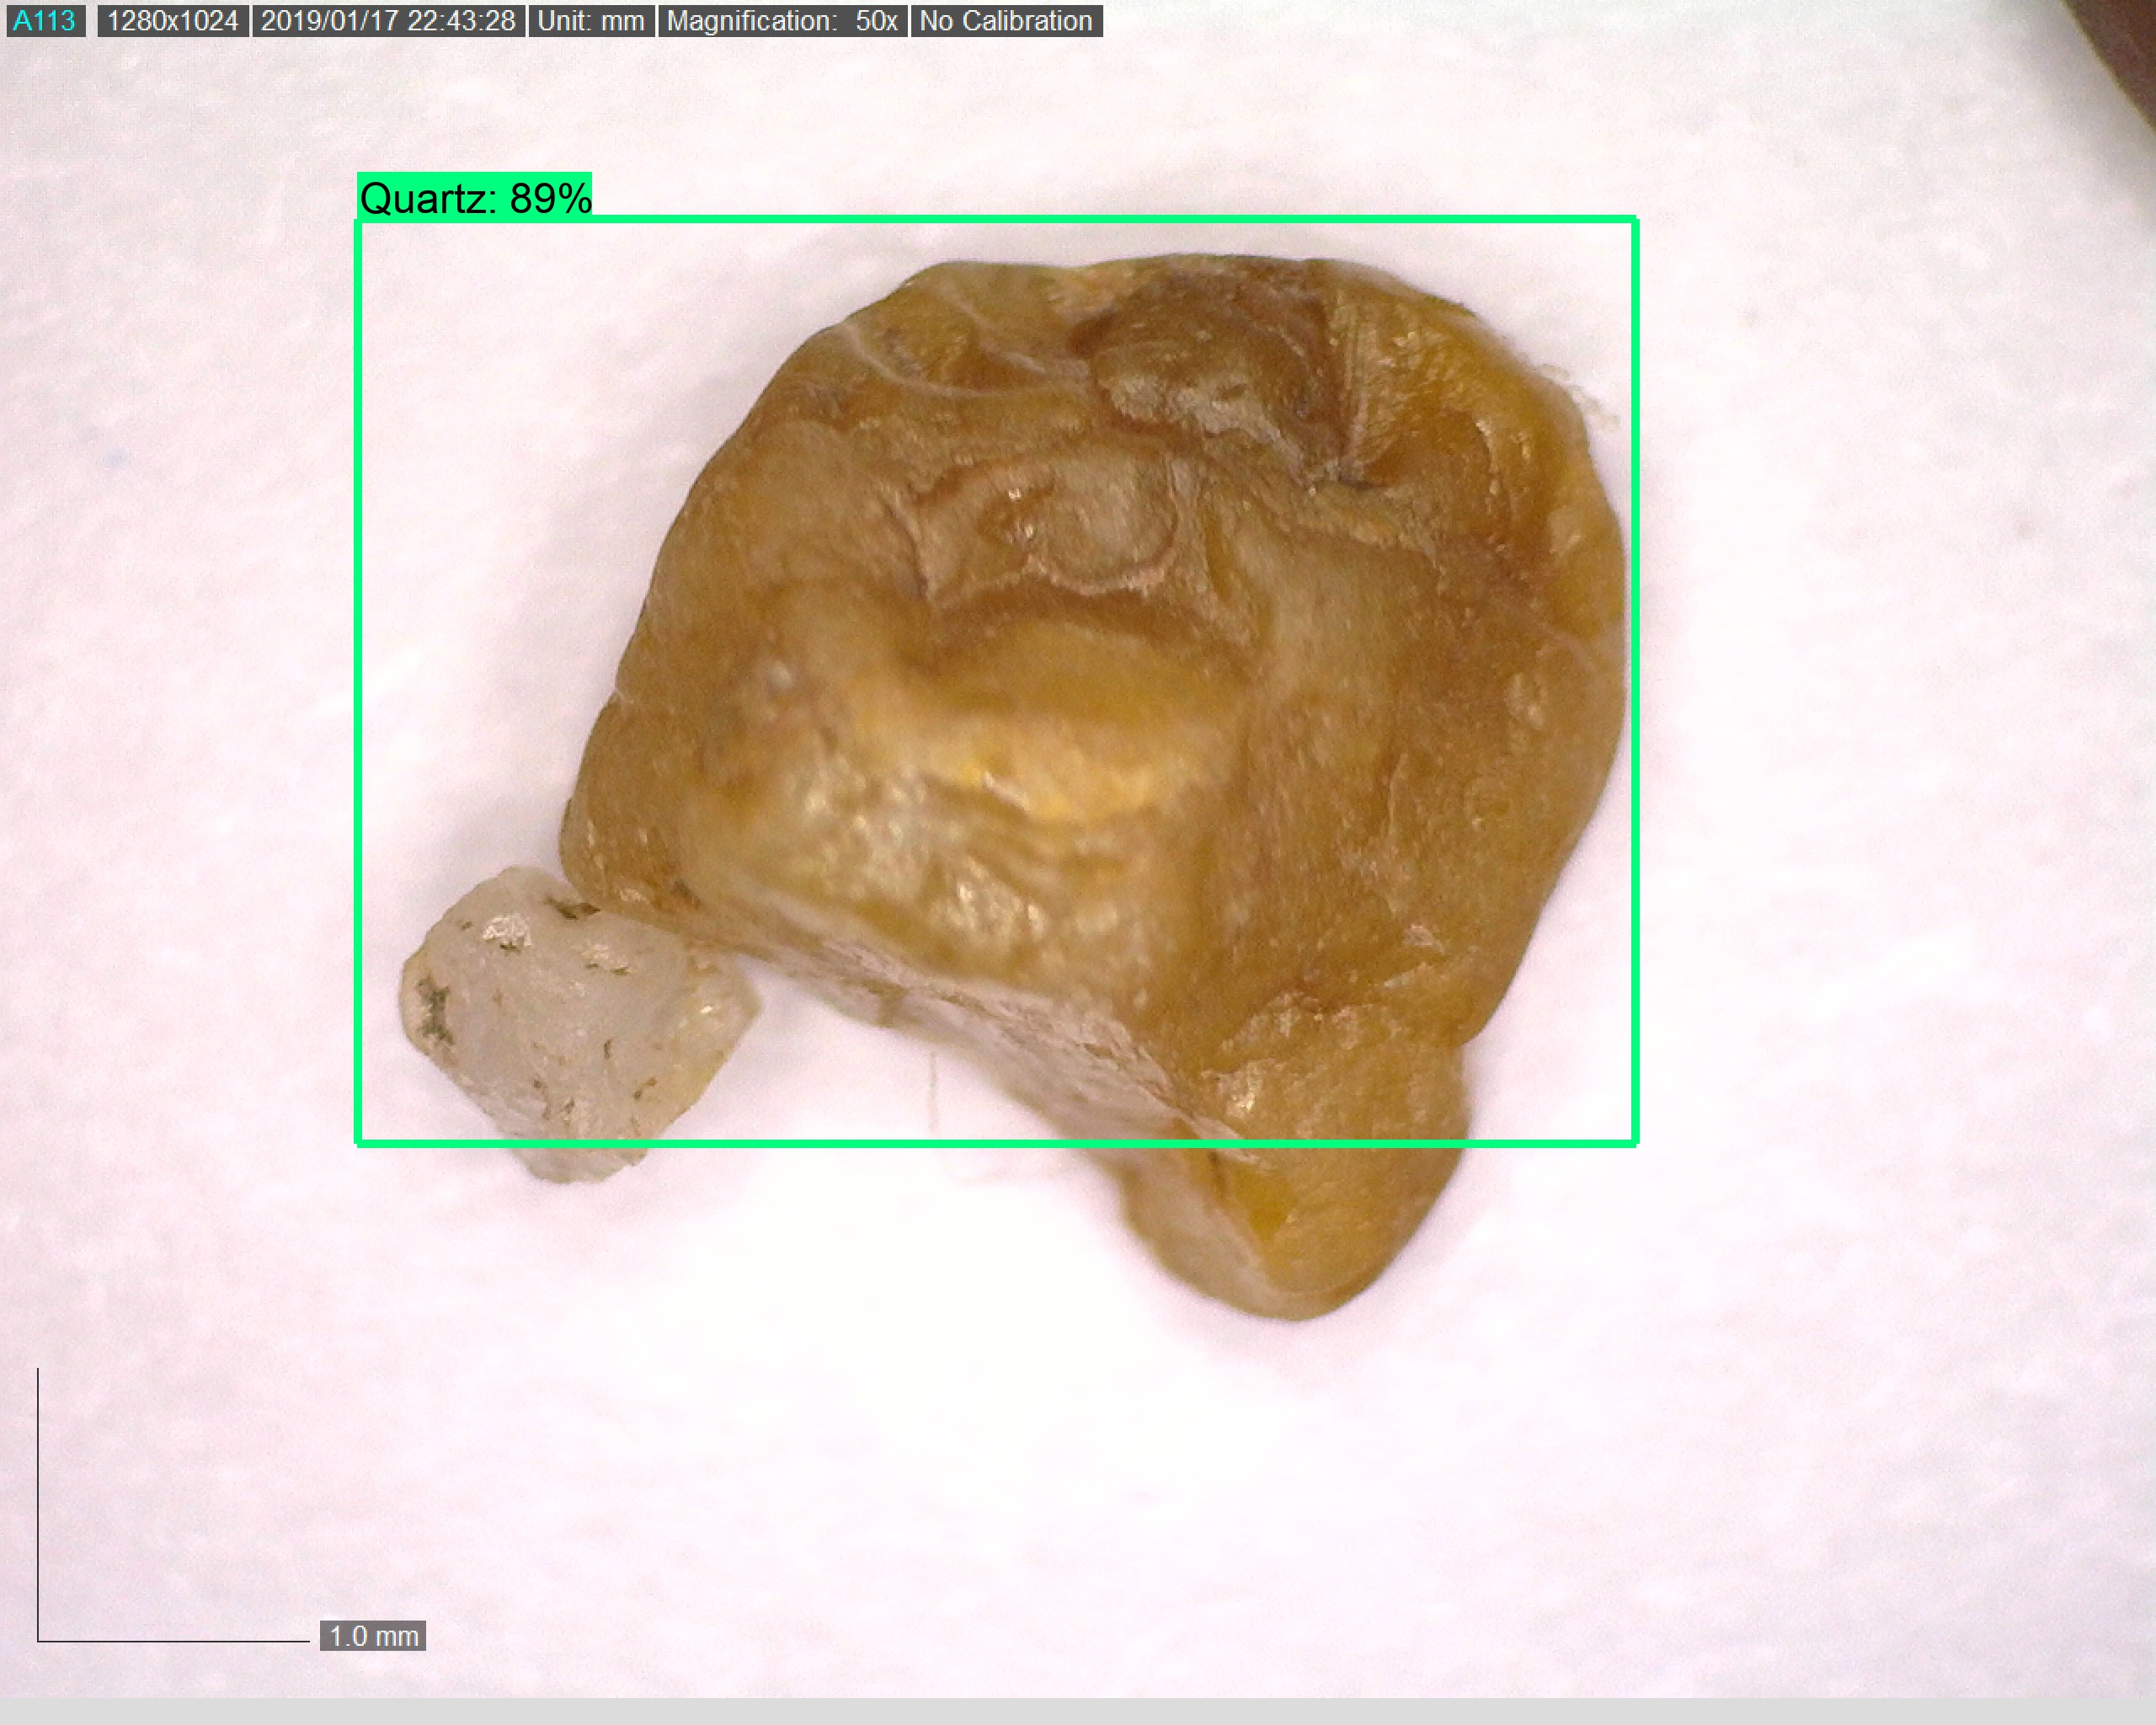Quartz: (366, 243, 1647, 1354)
